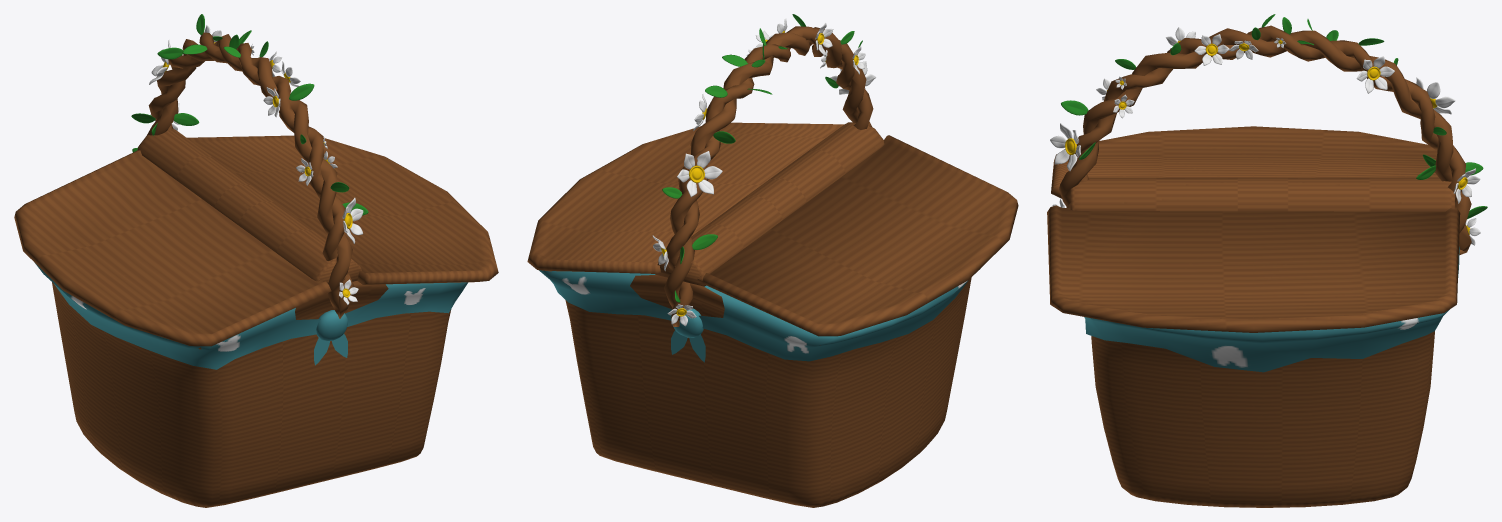
The model's file is basket-optimized.glb.
The picture shows the model from 3 angles, left to right: view 1: azimuth 30°, elevation 25°; view 2: azimuth 150°, elevation 25°; view 3: azimuth 270°, elevation 25°; orthographic projection. The views are drawn at different scales.
Visible parts, largest first — view 1: Cylinder.031; view 2: Cylinder.031; view 3: Cylinder.031.
Part boxes in pixels (left/top/right/bottom): Cylinder.031: left=14, top=14, right=498, bottom=507; Cylinder.031: left=527, top=14, right=1018, bottom=507; Cylinder.031: left=1047, top=14, right=1487, bottom=507.
Size of the model in its own units: 1.21 by 1.19 by 1.12.
Materials: 1 (1 with a texture image).
